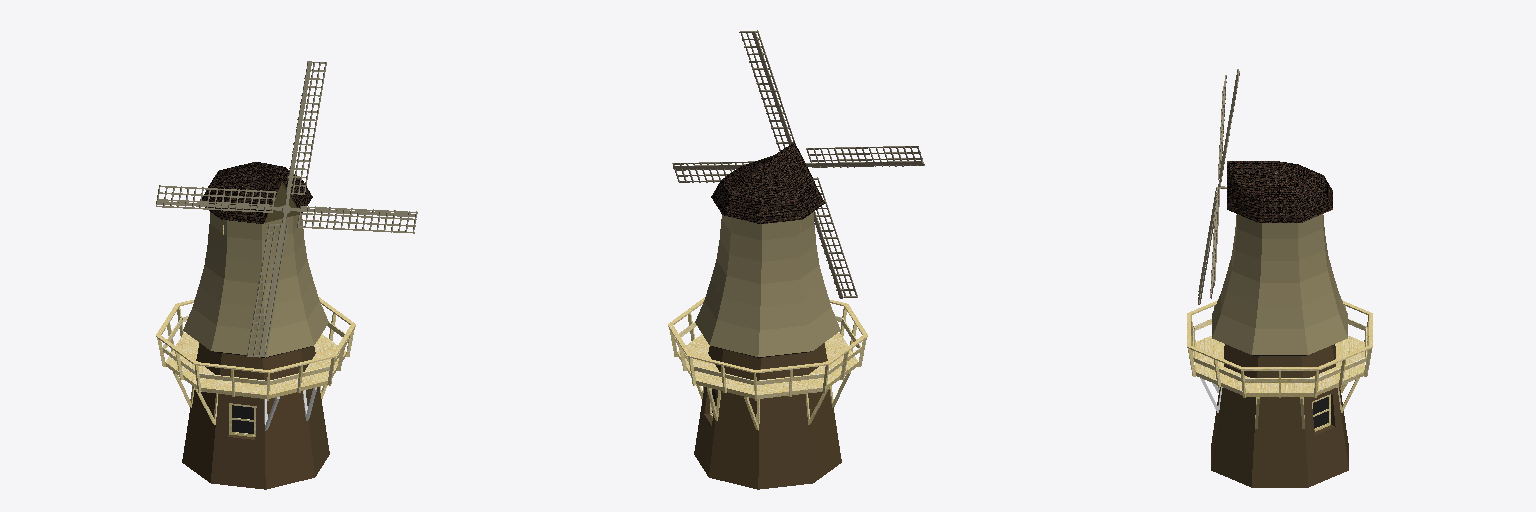
3 views of the same model, side by side, from view 1: azimuth 30°, elevation 25°; view 2: azimuth 150°, elevation 25°; view 3: azimuth 270°, elevation 25° (orthographic).
Visible parts, largest first — view 1: Mesh32 Upper_Section1 Model, Mesh30 Bottom_Section1 Model, Mesh31 Middle_Section1 Model, Mesh21 Top_Section1 Model, Mesh28 Window1 Bottom_Section1 Model, Mesh20 Post5 Model, Mesh10 Post1 Model; view 2: Mesh32 Upper_Section1 Model, Mesh30 Bottom_Section1 Model, Mesh21 Top_Section1 Model, Mesh31 Middle_Section1 Model, Mesh15 Post3 Model, Mesh12 Post2 Model; view 3: Mesh32 Upper_Section1 Model, Mesh30 Bottom_Section1 Model, Mesh21 Top_Section1 Model, Mesh31 Middle_Section1 Model, Mesh25 Post7 Model, Mesh29 Window2 Bottom_Section1 Model, Mesh27 Post8 Model, Mesh22 Post6 Model.
Part boxes in pixels (left/top/right/bottom): Mesh32 Upper_Section1 Model: left=183, top=212, right=328, bottom=357; Mesh30 Bottom_Section1 Model: left=182, top=387, right=329, bottom=489; Mesh31 Middle_Section1 Model: left=165, top=333, right=346, bottom=398; Mesh21 Top_Section1 Model: left=202, top=162, right=312, bottom=223; Mesh28 Window1 Bottom_Section1 Model: left=229, top=403, right=256, bottom=436; Mesh20 Post5 Model: left=191, top=361, right=266, bottom=396; Mesh10 Post1 Model: left=263, top=355, right=331, bottom=392; Mesh32 Upper_Section1 Model: left=695, top=212, right=840, bottom=357; Mesh30 Bottom_Section1 Model: left=694, top=387, right=841, bottom=489; Mesh21 Top_Section1 Model: left=711, top=142, right=824, bottom=223; Mesh31 Middle_Section1 Model: left=677, top=333, right=858, bottom=398; Mesh15 Post3 Model: left=749, top=362, right=825, bottom=396; Mesh12 Post2 Model: left=686, top=353, right=753, bottom=392; Mesh32 Upper_Section1 Model: left=1212, top=214, right=1347, bottom=355; Mesh30 Bottom_Section1 Model: left=1211, top=387, right=1348, bottom=487; Mesh21 Top_Section1 Model: left=1227, top=161, right=1332, bottom=222; Mesh31 Middle_Section1 Model: left=1195, top=336, right=1364, bottom=396; Mesh25 Post7 Model: left=1237, top=367, right=1316, bottom=397; Mesh29 Window2 Bottom_Section1 Model: left=1312, top=394, right=1330, bottom=431; Mesh27 Post8 Model: left=1312, top=346, right=1368, bottom=387; Mesh22 Post6 Model: left=1187, top=344, right=1241, bottom=387.
Bounding box in the file's own units: 312 × 469 × 196.
Materials: 10 (2 with a texture image).